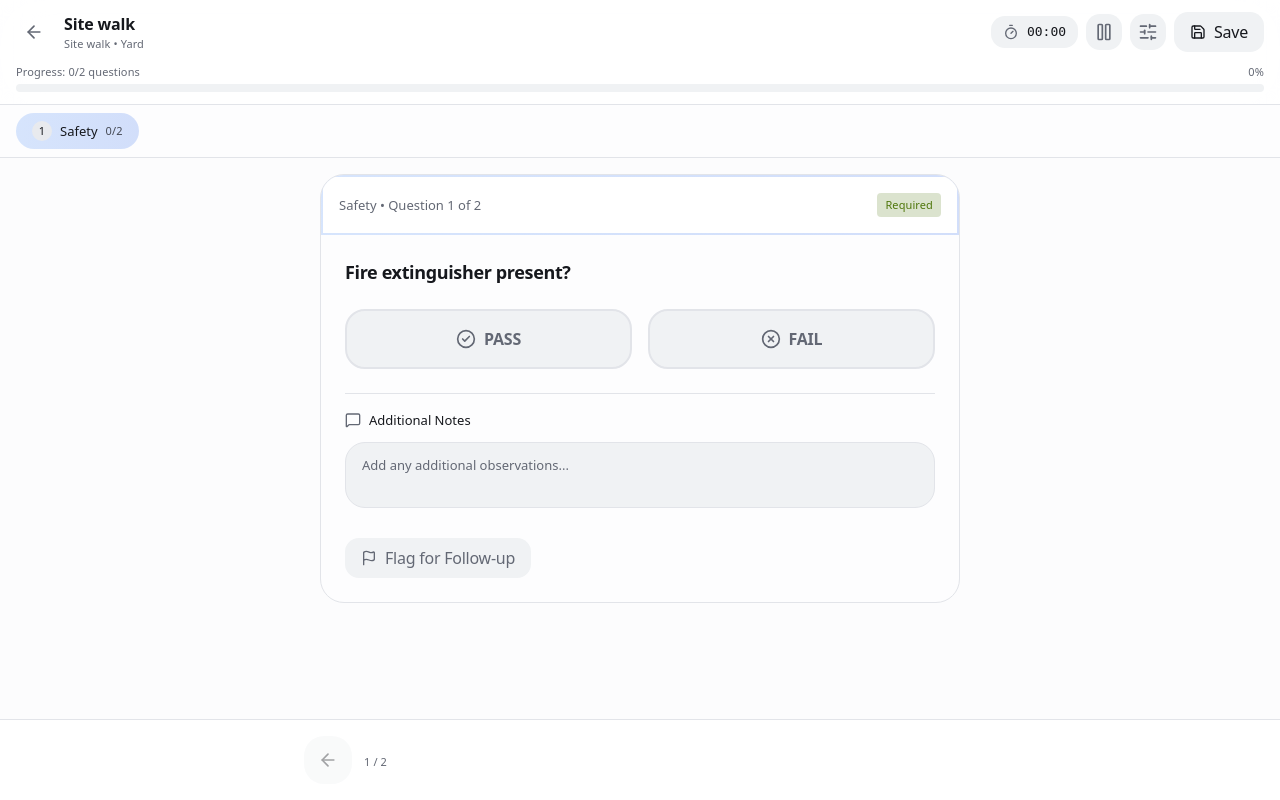
Test: AuditExecution fail evidence gate › auto-advances on PASS without requiring evidence
The width and height of the screenshot is (1280, 800).
Check: the heading "Fire extinguisher present?" is shown, box 345,260 -> 571,284
What coordinates should you click on to do the following:
click the button "PASS"
I would click on:
 (488, 339)
Its box is 345,309 -> 632,369.
Wait 700 ms
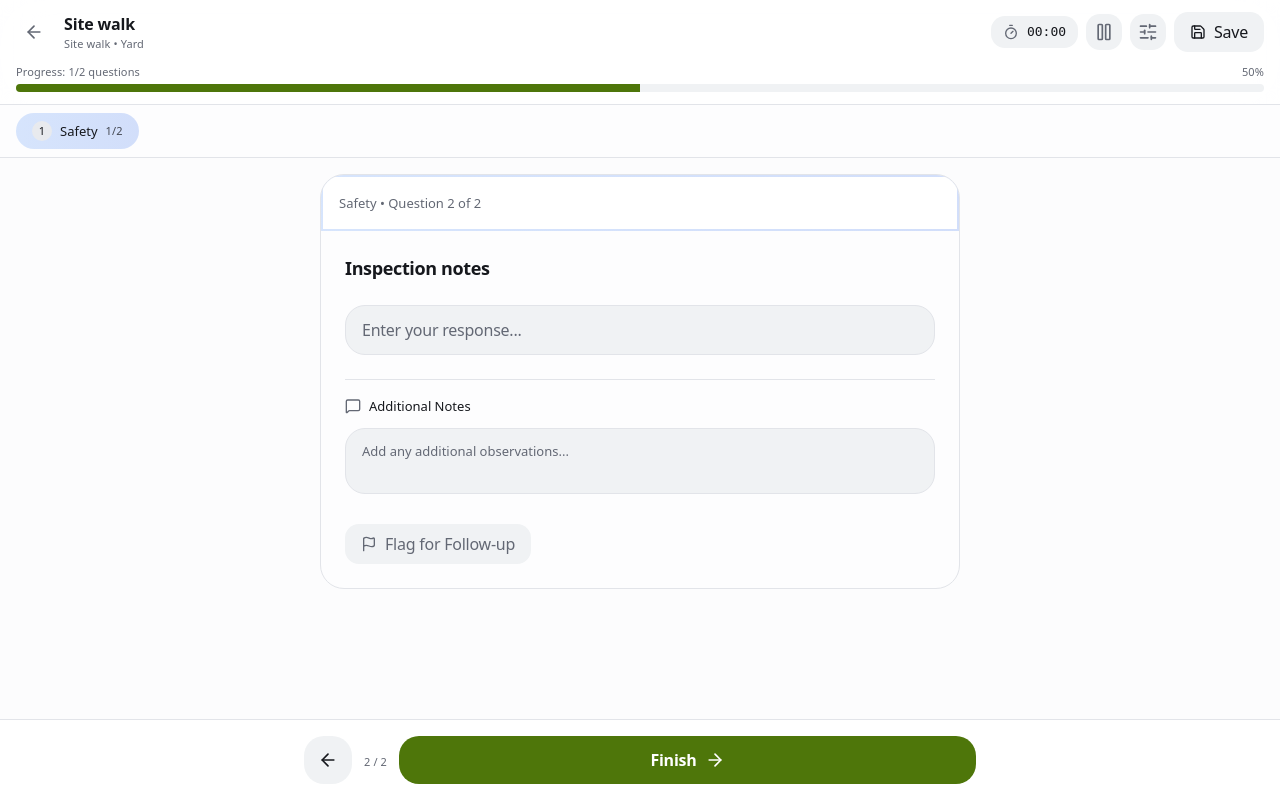
Check: the heading "Inspection notes" is shown, box 345,256 -> 490,280
